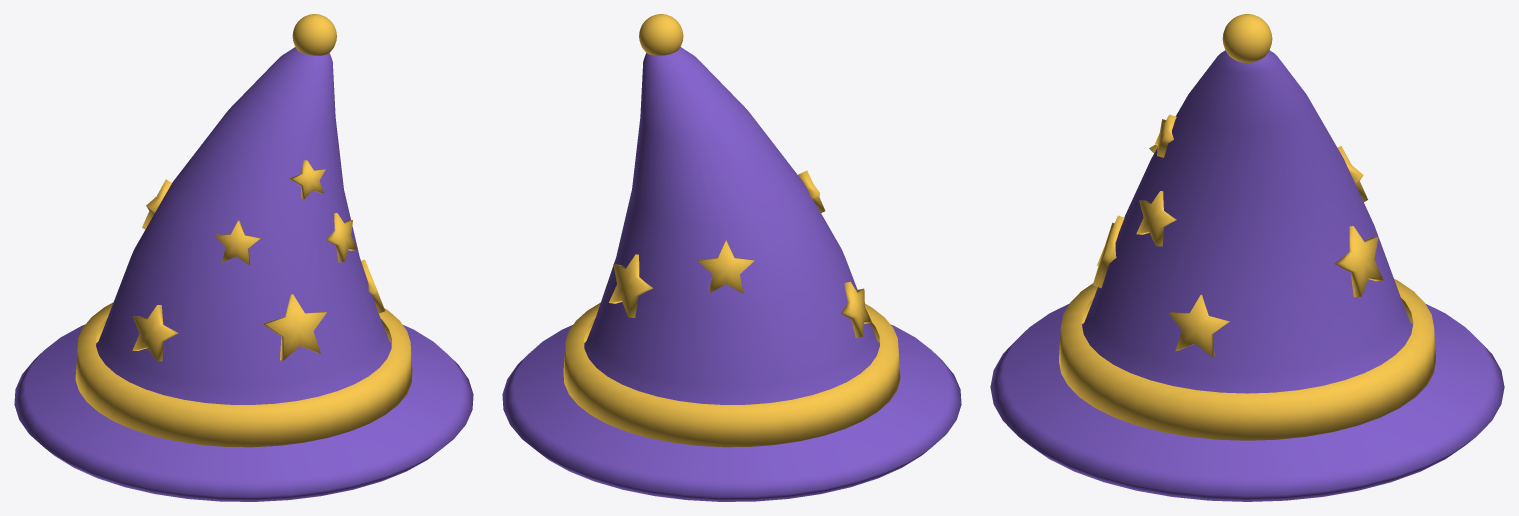
File: wizard_hat.fbx
The picture shows the model from 3 angles, left to right: view 1: azimuth 30°, elevation 25°; view 2: azimuth 150°, elevation 25°; view 3: azimuth 270°, elevation 25°; orthographic projection. The views are drawn at different scales.
Visible parts, largest first — view 1: WizHat, WizBand, WizStar (×5), WizTip; view 2: WizHat, WizBand, WizStar (×3), WizTip; view 3: WizHat, WizBand, WizStar (×4), WizTip.
Boxes of the visible parts, x1,y1,x2,y2 form: WizHat: [14, 47, 473, 501]; WizBand: [75, 302, 412, 447]; WizStar (×5): [132, 160, 357, 361]; WizTip: [292, 14, 336, 55]; WizHat: [502, 47, 961, 501]; WizBand: [563, 302, 900, 447]; WizStar (×3): [609, 240, 871, 337]; WizTip: [639, 14, 683, 55]; WizHat: [990, 50, 1504, 501]; WizBand: [1059, 279, 1435, 440]; WizStar (×4): [1093, 191, 1383, 356]; WizTip: [1222, 14, 1272, 62].
Bounding box in the file's own units: 12.4 × 11.2 × 12.4.
